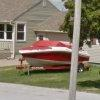Boat: (8, 29, 89, 78)
